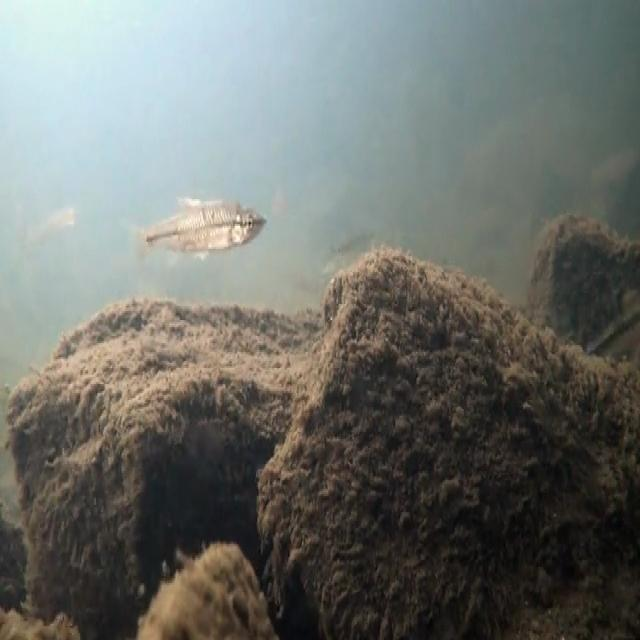Cakil Baligi: (130, 191, 272, 253)
